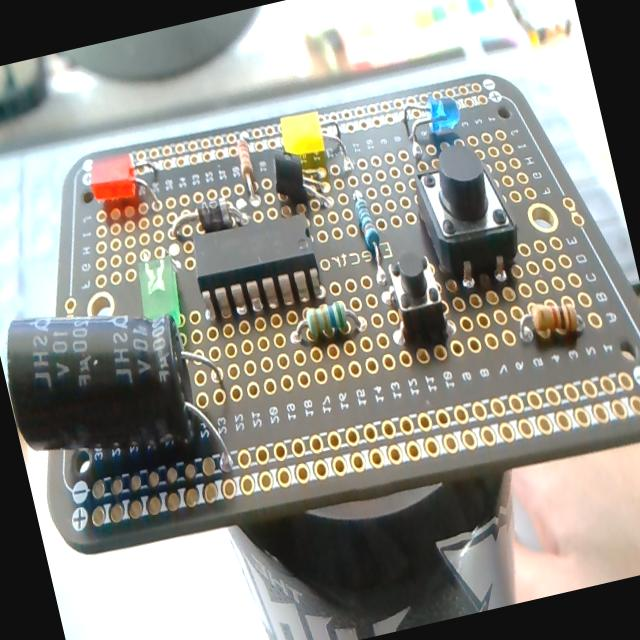Electrolytic capacitor: (0, 271, 239, 514)
IC: (182, 193, 324, 322)
diode: (166, 193, 252, 245)
led: (85, 144, 163, 220), (402, 88, 471, 160), (130, 252, 188, 335), (277, 108, 328, 168)
resistor: (282, 292, 369, 354), (513, 292, 584, 348), (352, 192, 390, 285), (232, 132, 262, 202)
switch: (410, 148, 518, 258), (376, 247, 454, 350)
transistor: (268, 136, 346, 218)
